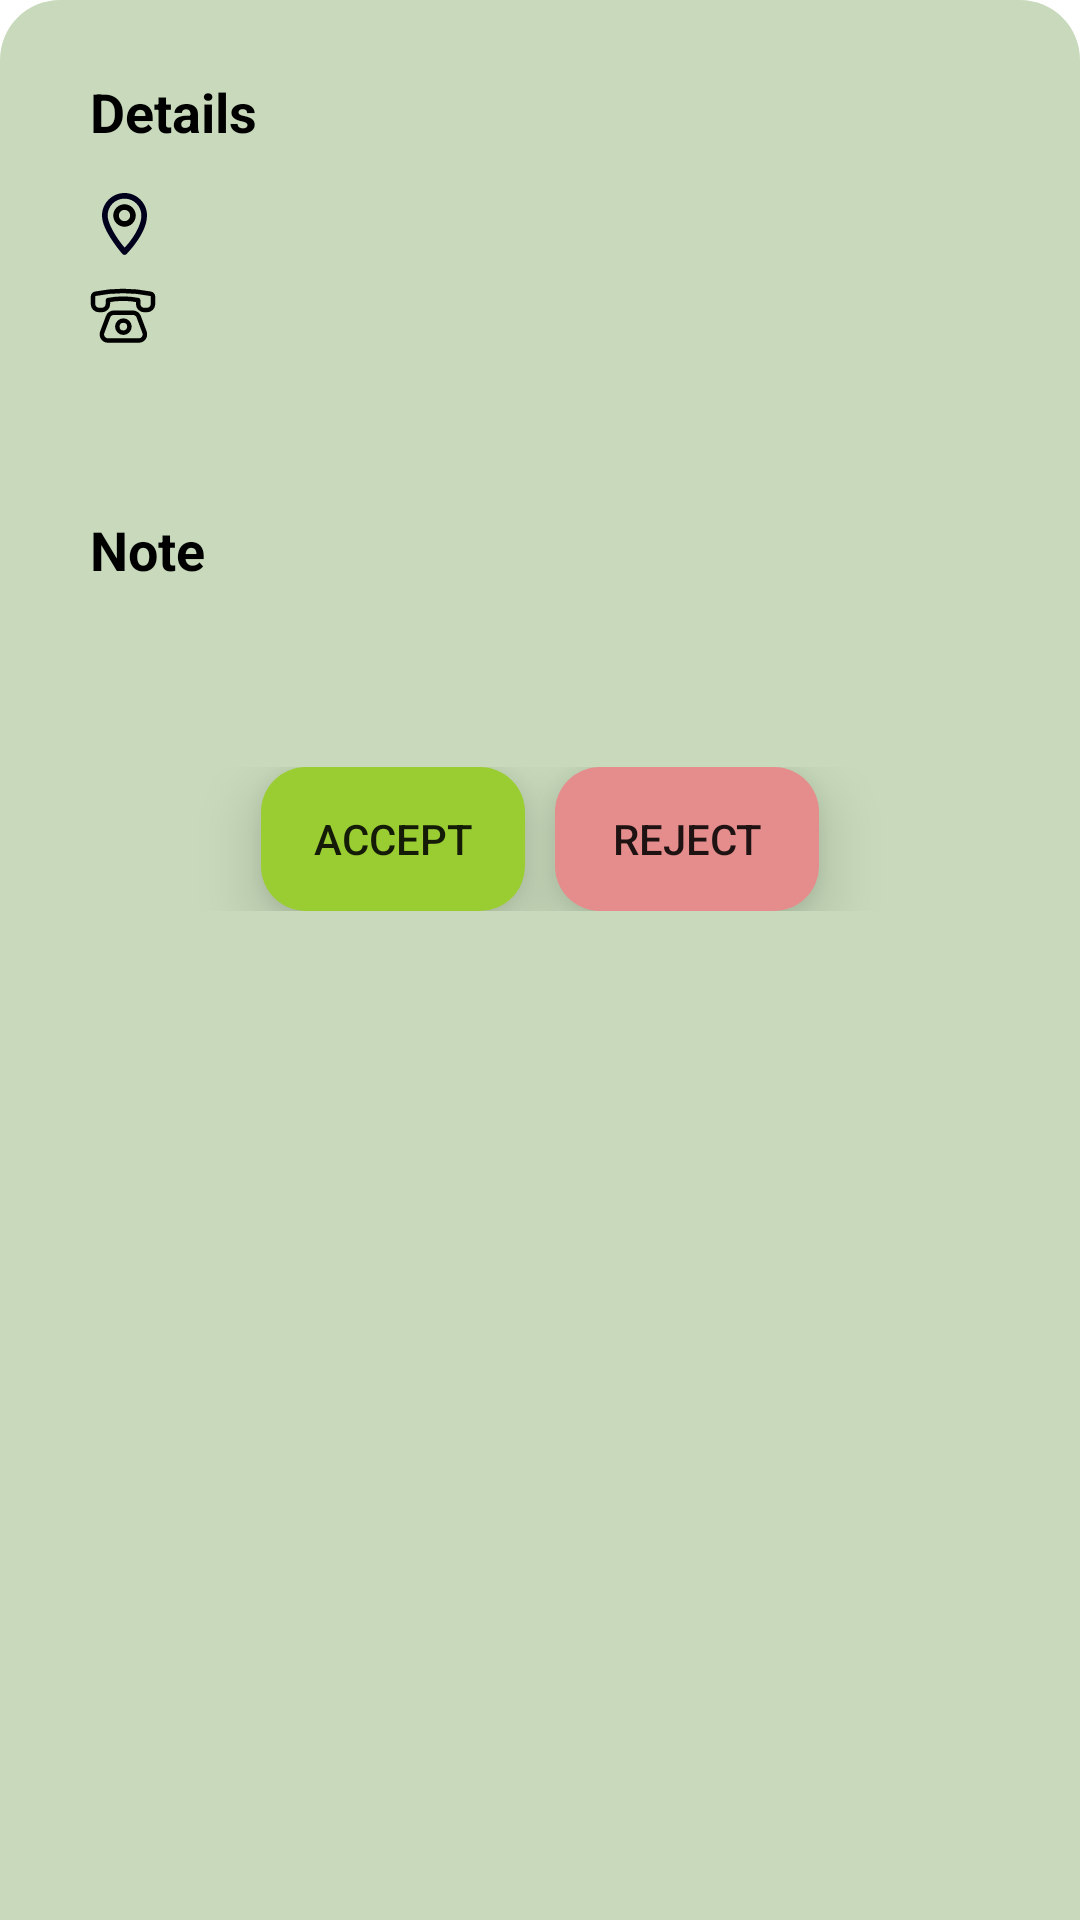

Icons on this 1080*1920 Android screen, each with its box as (x1, y1, x2, y2):
location: (102, 193, 147, 255)
phone: (90, 288, 156, 343)
